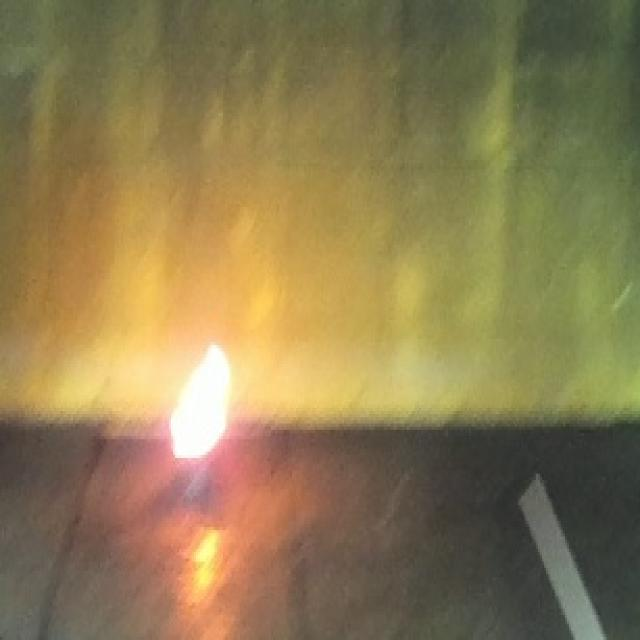Fire: (170, 342, 232, 460)
